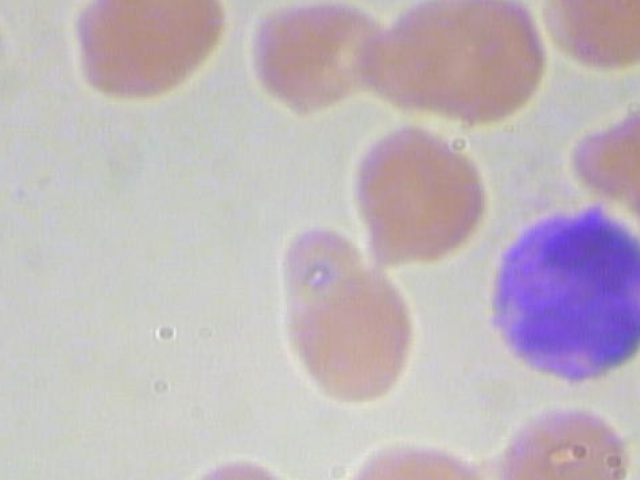RBC: (361, 0, 556, 131), (331, 124, 502, 267), (272, 264, 442, 407), (236, 0, 397, 124), (70, 0, 230, 101), (485, 397, 635, 480), (531, 0, 640, 77)
WBC: (478, 194, 640, 385)
